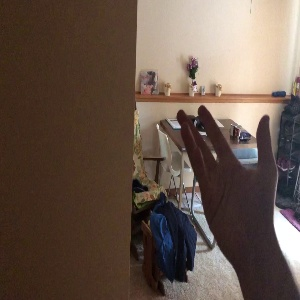hand: (177, 106, 276, 235)
